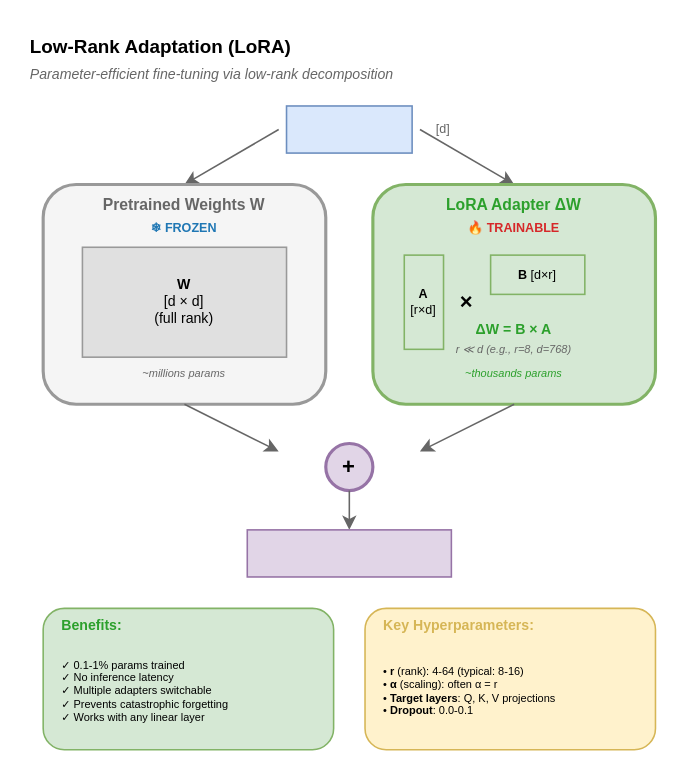
The diagram is 683 pixels wide and 777 high, and some of its shapes have lost their labels. Each missing label, with the centre of its shape:
"Input x" belongs at (348,128).
"Output: (W + ΔW)x" belongs at (348,552).
